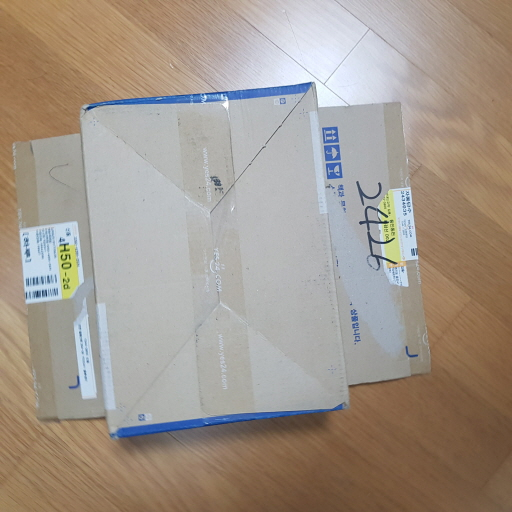Paper_0: (10, 80, 442, 442)
